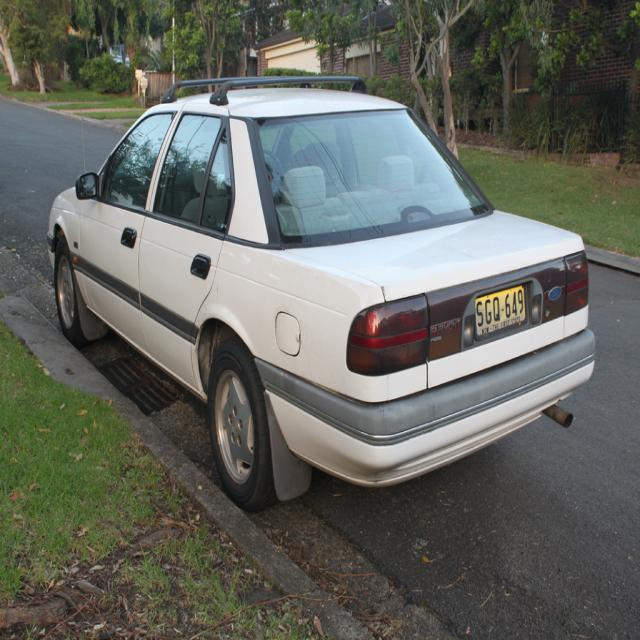car: (62, 79, 595, 514)
